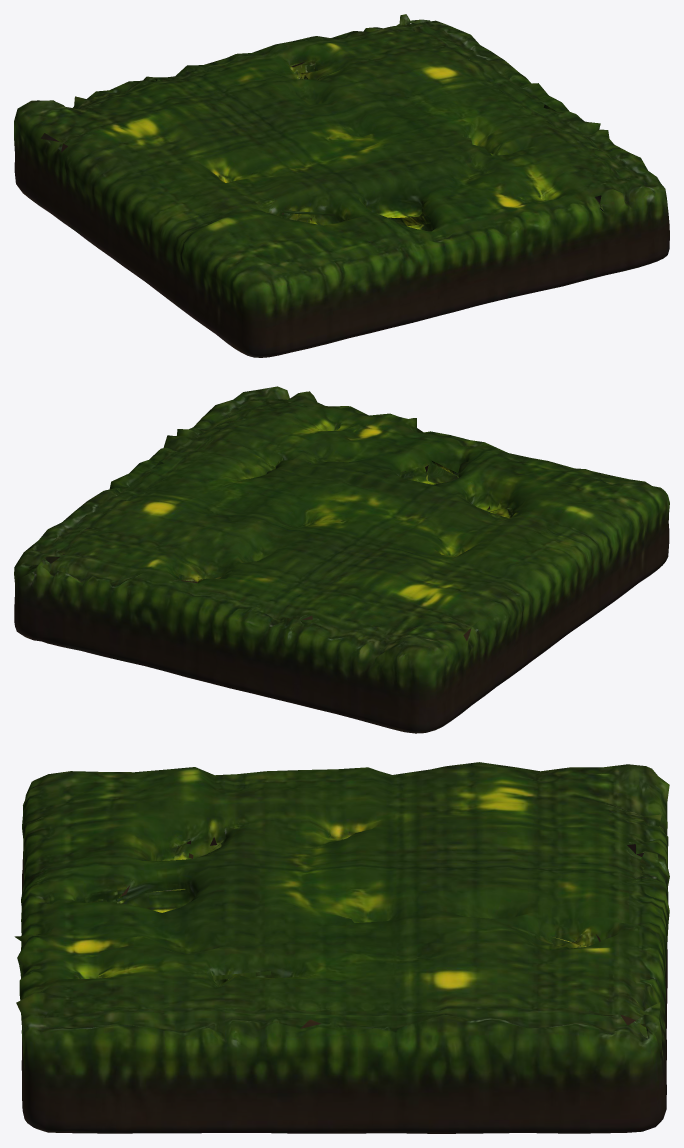
The model's file is 4cdffe95ce85_38b6d3497251_meadow__3d_asset_0_.glb.
The picture shows the model from 3 angles, top to bottom: view 1: azimuth 30°, elevation 25°; view 2: azimuth 150°, elevation 25°; view 3: azimuth 270°, elevation 25°; orthographic projection. The views are drawn at different scales.
Visible parts, largest first — view 1: mesh; view 2: mesh; view 3: mesh.
Boxes of the visible parts, <box> form: mesh: <box>14,14,669,357</box>; mesh: <box>14,386,669,733</box>; mesh: <box>14,762,669,1133</box>.
Bounding box in the file's own units: 0.9707 × 0.1886 × 0.9732.
1 material, 1 textured.
